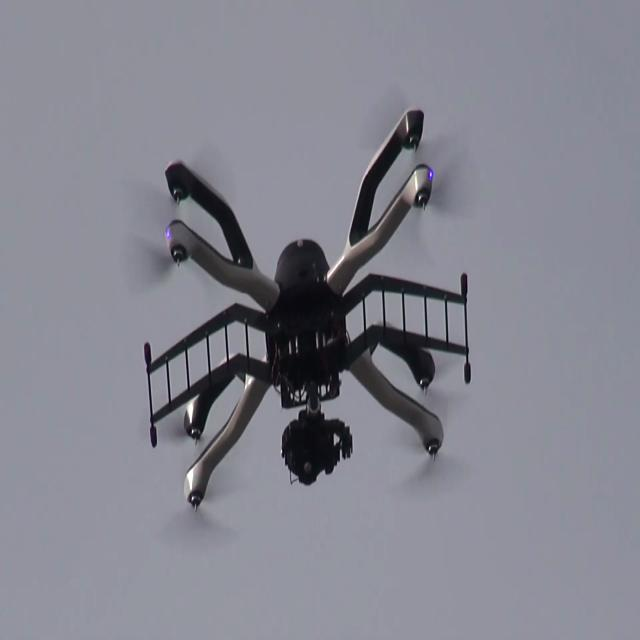drone: (116, 109, 472, 528)
